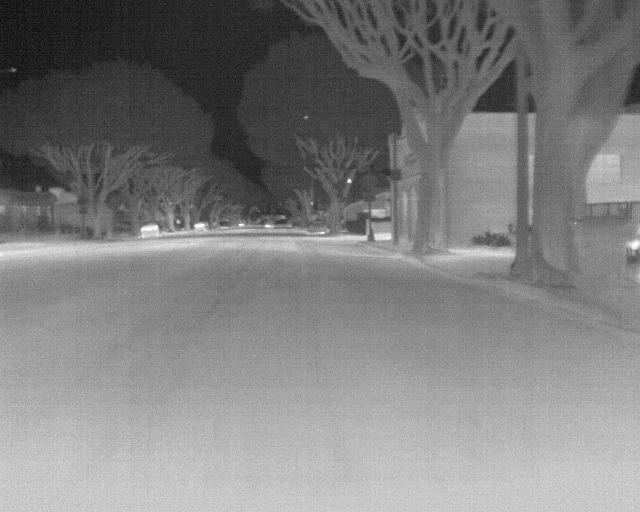car: (305, 218, 329, 235), (261, 219, 274, 229)
